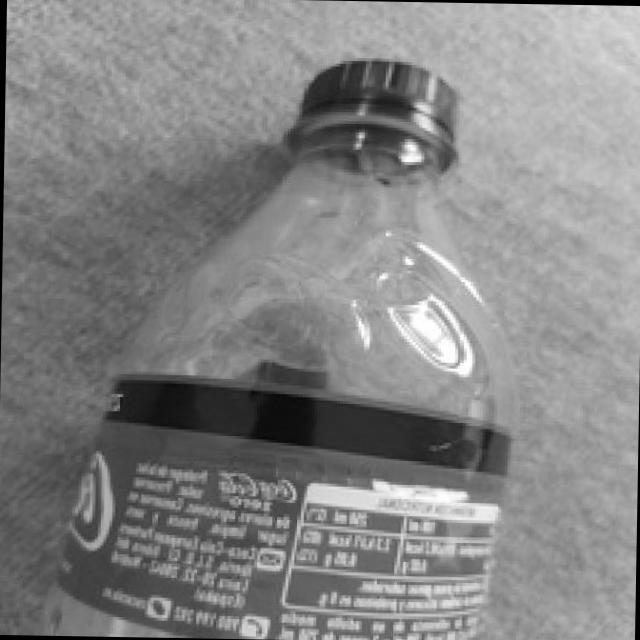good: (37, 44, 516, 640)
